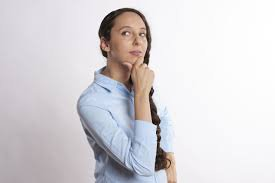noMask: (92, 3, 160, 73)
